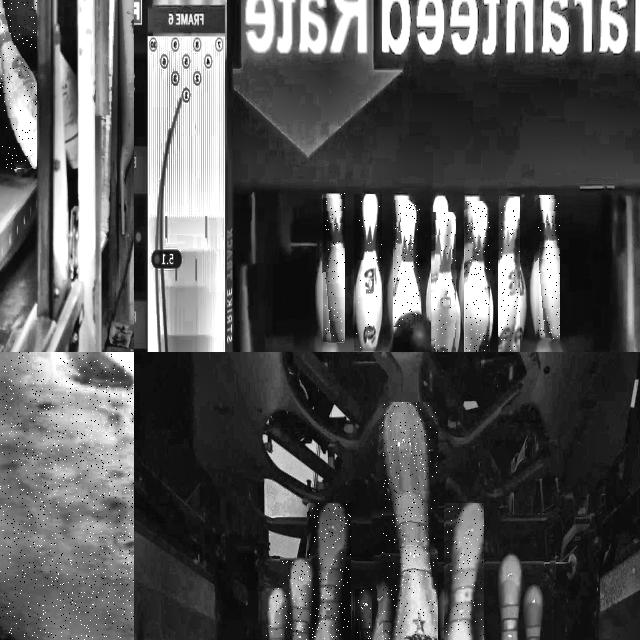bowling-ball: (389, 313, 442, 352)
bowling-pins: (0, 352, 134, 640), (382, 403, 437, 640), (0, 6, 36, 169), (446, 503, 484, 640), (312, 504, 346, 640), (355, 195, 381, 350), (466, 202, 490, 352), (458, 196, 480, 342), (538, 195, 560, 340), (394, 200, 419, 326), (500, 196, 519, 352), (434, 213, 455, 352), (425, 195, 448, 319), (387, 194, 409, 323), (325, 194, 344, 342), (499, 553, 522, 640), (288, 558, 310, 640), (524, 584, 543, 640), (266, 589, 285, 640), (439, 587, 456, 640), (357, 589, 371, 640)
